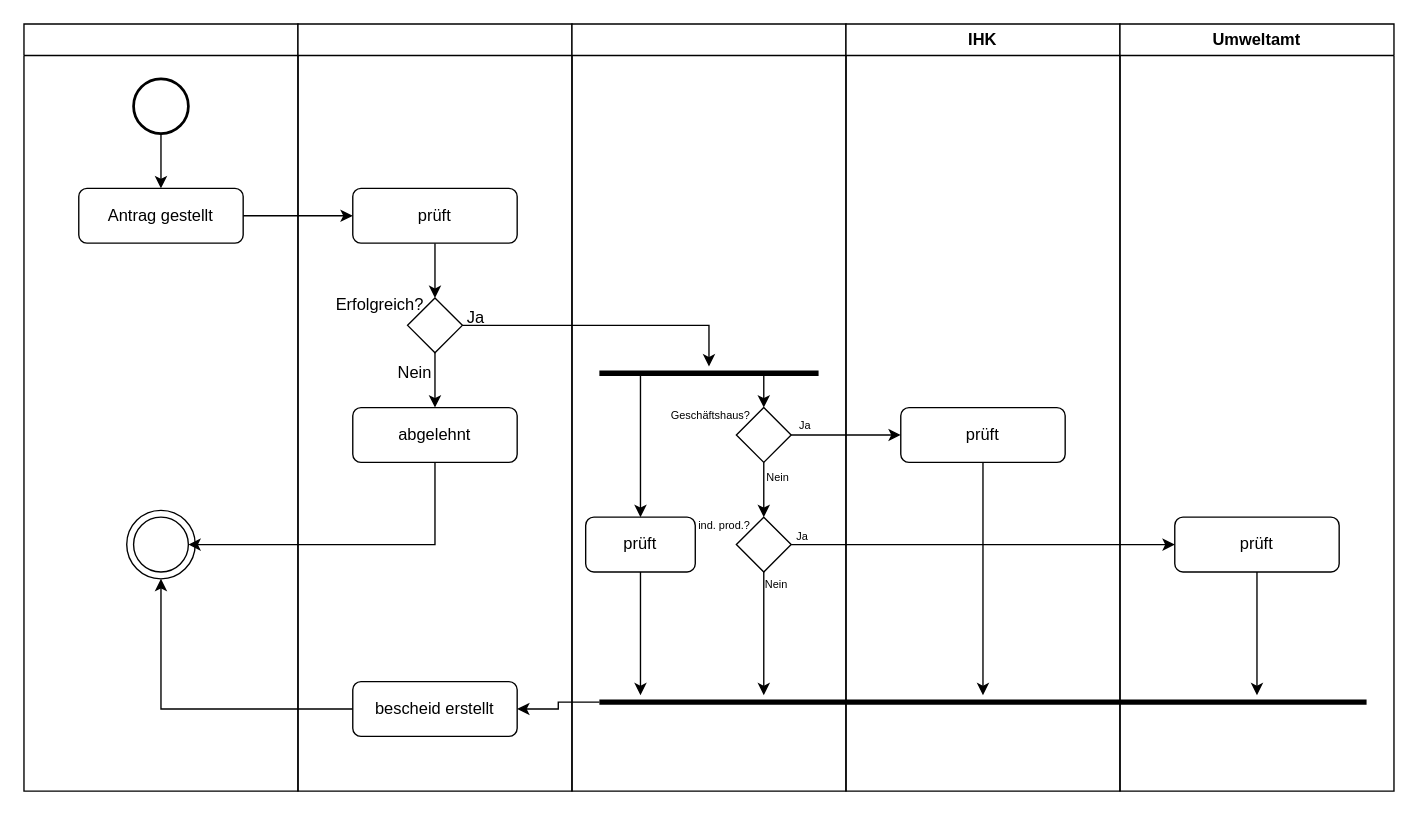
Image size: 1418x815. Some labels were removed from this diagram. Each missing label, with the box of its shape:
Antragsteller: (23, 23, 298, 791)
Bauamt: (297, 23, 572, 791)
Bezirksverwaltung: (571, 23, 846, 791)
